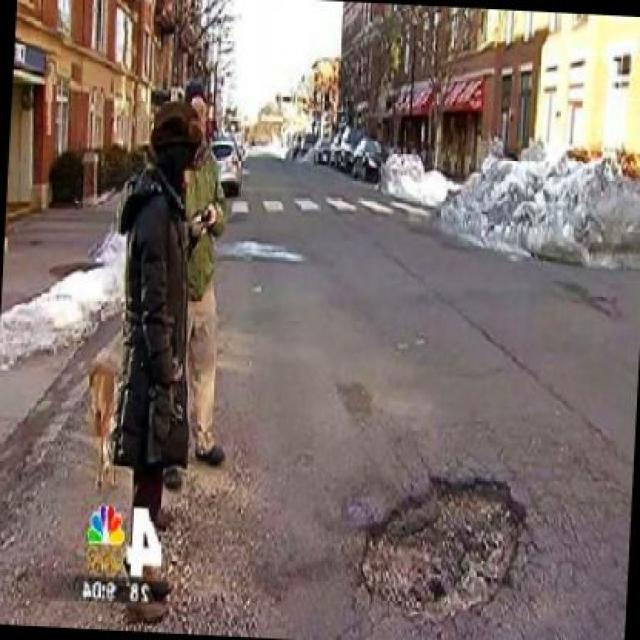pothole1: (354, 462, 532, 622)
